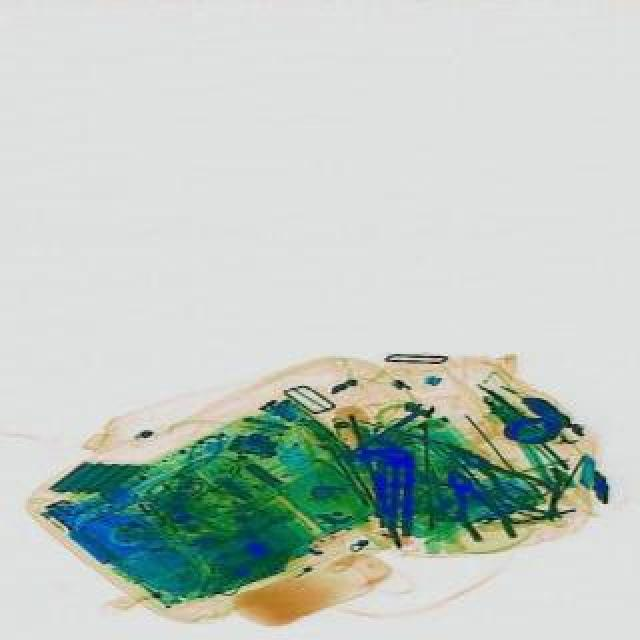scissors: (340, 396, 432, 460)
wrench: (446, 436, 552, 516), (430, 458, 514, 552)
